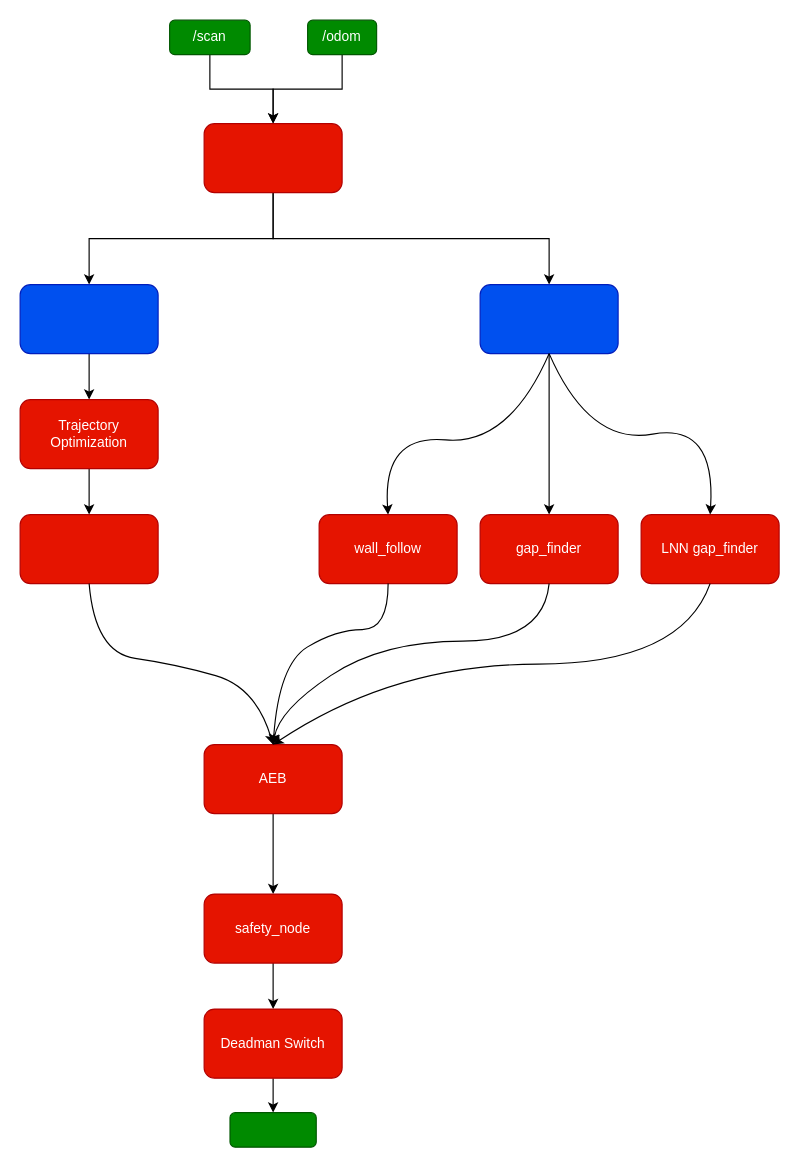
Some shapes in this 799 by 1167 pixel diagram are drawn without their labels. Here are the shapes that lost their labels. From the top down, the centre of each, then its label:
At (272,157): "output_select".
At (88,318): "Global Planner".
At (548,318): "Local Planners".
At (88,548): "MPC: pure_pursuit".
At (272,1129): "/drive".
